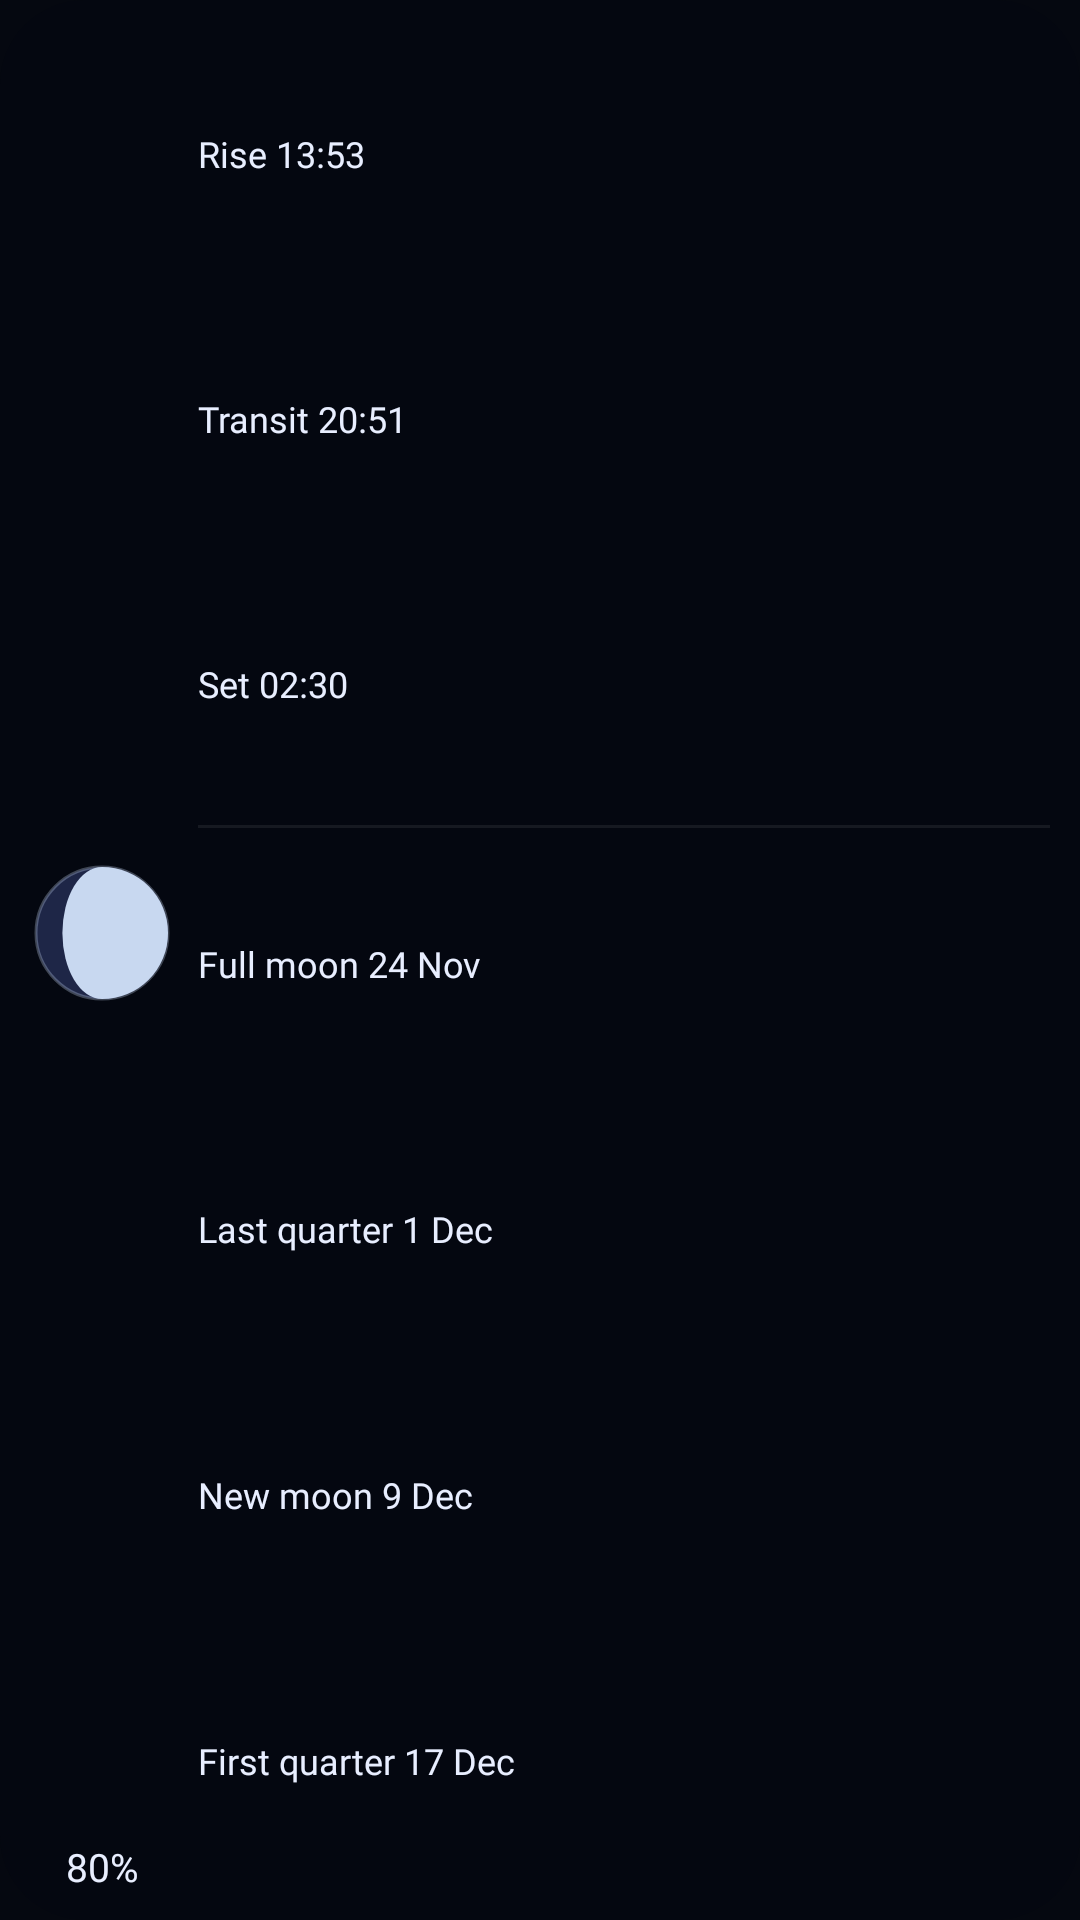

Locate icon controls on the screen. Image size 1080 × 1920, boxes as (x1, y1, x2, y2).
widget moon: (34, 865, 170, 1001)
